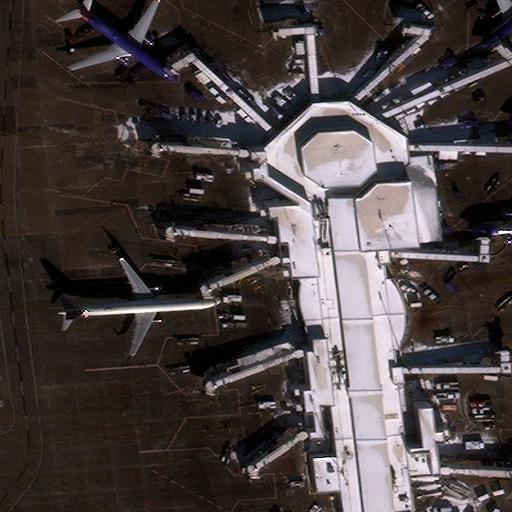Medium Civil Transport: (58, 262, 220, 353), (69, 1, 175, 81), (479, 0, 512, 47)
